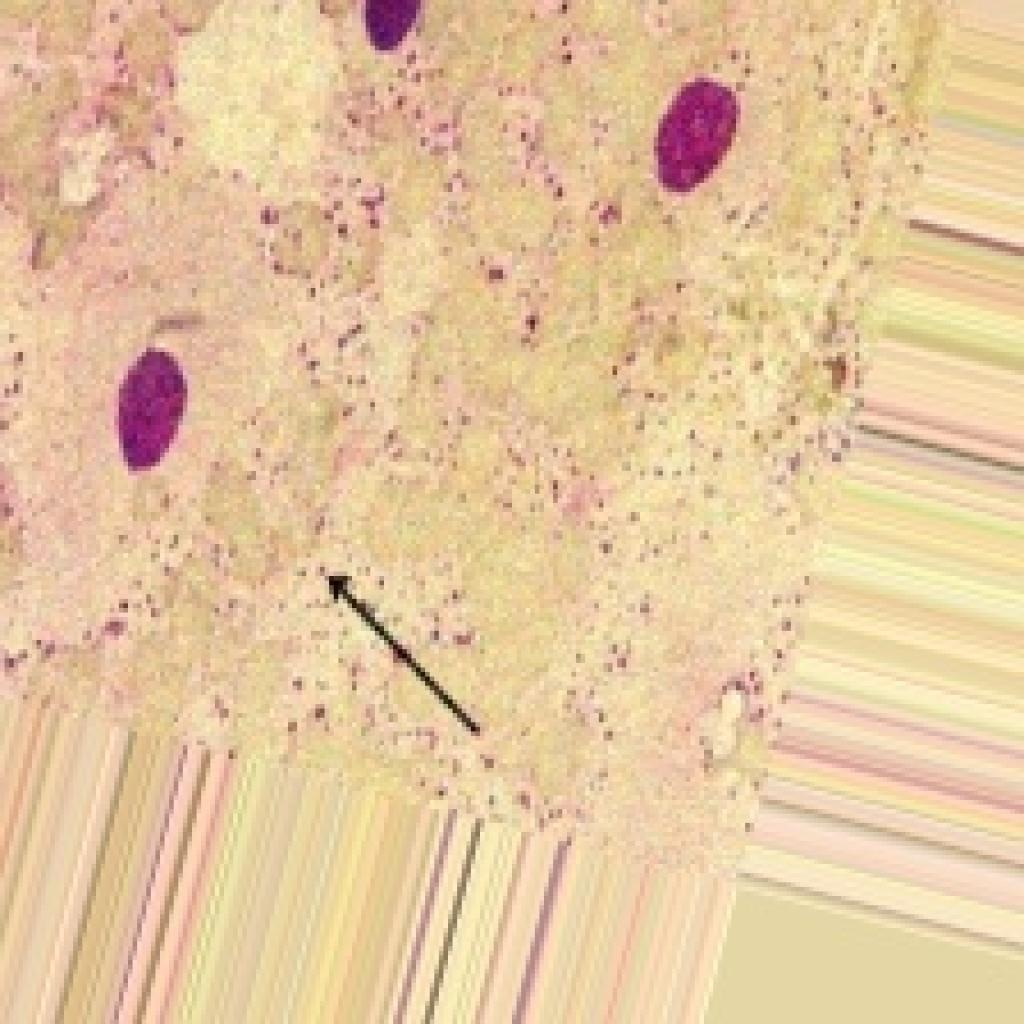Sphericalbacteria: (0, 0, 951, 878)
